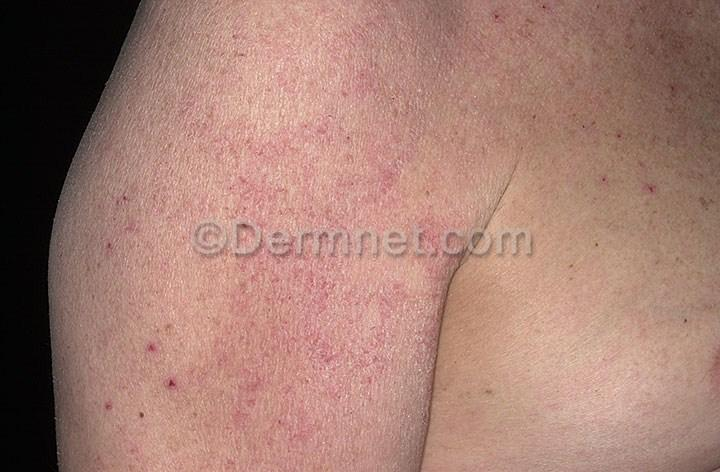Eczema: (171, 13, 434, 220), (224, 269, 439, 467), (49, 269, 228, 472), (433, 8, 640, 165), (633, 3, 720, 225), (75, 183, 165, 273)
